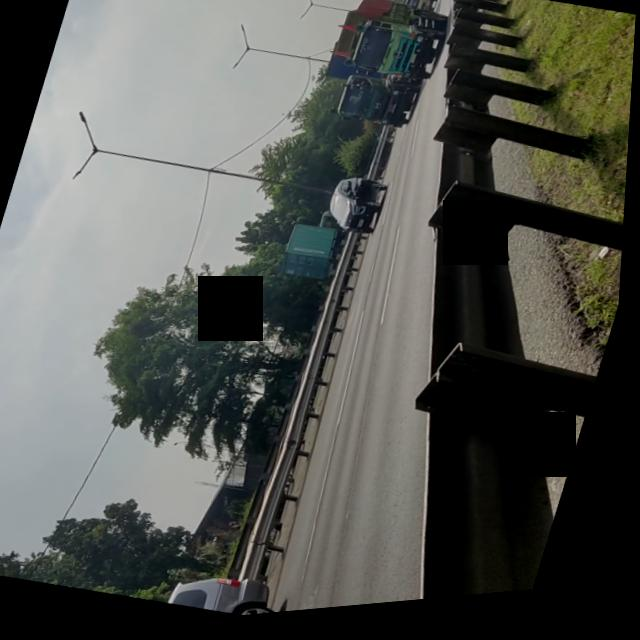Golongan I: (321, 172, 398, 247)
